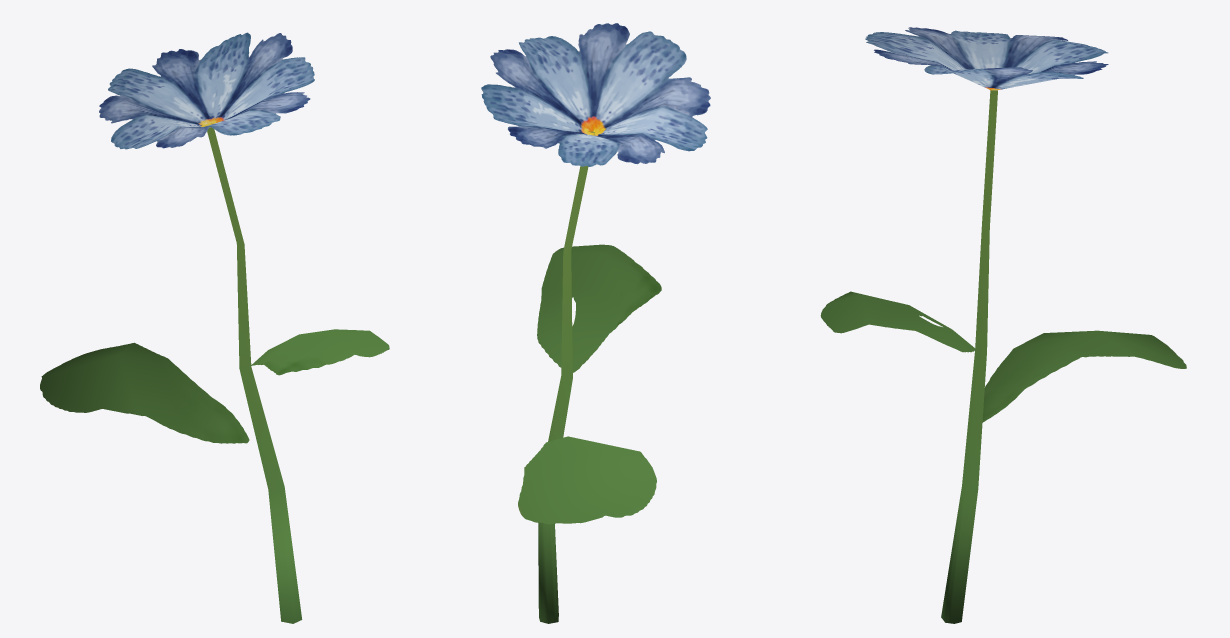
The model's file is FlowerA_VAR_b.fbx.
The picture shows the model from 3 angles, left to right: view 1: azimuth 30°, elevation 25°; view 2: azimuth 150°, elevation 25°; view 3: azimuth 270°, elevation 25°; orthographic projection. The views are drawn at different scales.
Parts seen in each view (by area): view 1: FlowerA_VAR_bLOD0; view 2: FlowerA_VAR_bLOD0; view 3: FlowerA_VAR_bLOD0.
Part boxes in pixels (x1,y1,x2,y2): FlowerA_VAR_bLOD0: (40,32,389,623); FlowerA_VAR_bLOD0: (481,23,710,623); FlowerA_VAR_bLOD0: (820,27,1186,623).
Size of what is drawn, in the model's own units: 26.51 by 54.61 by 38.01.
